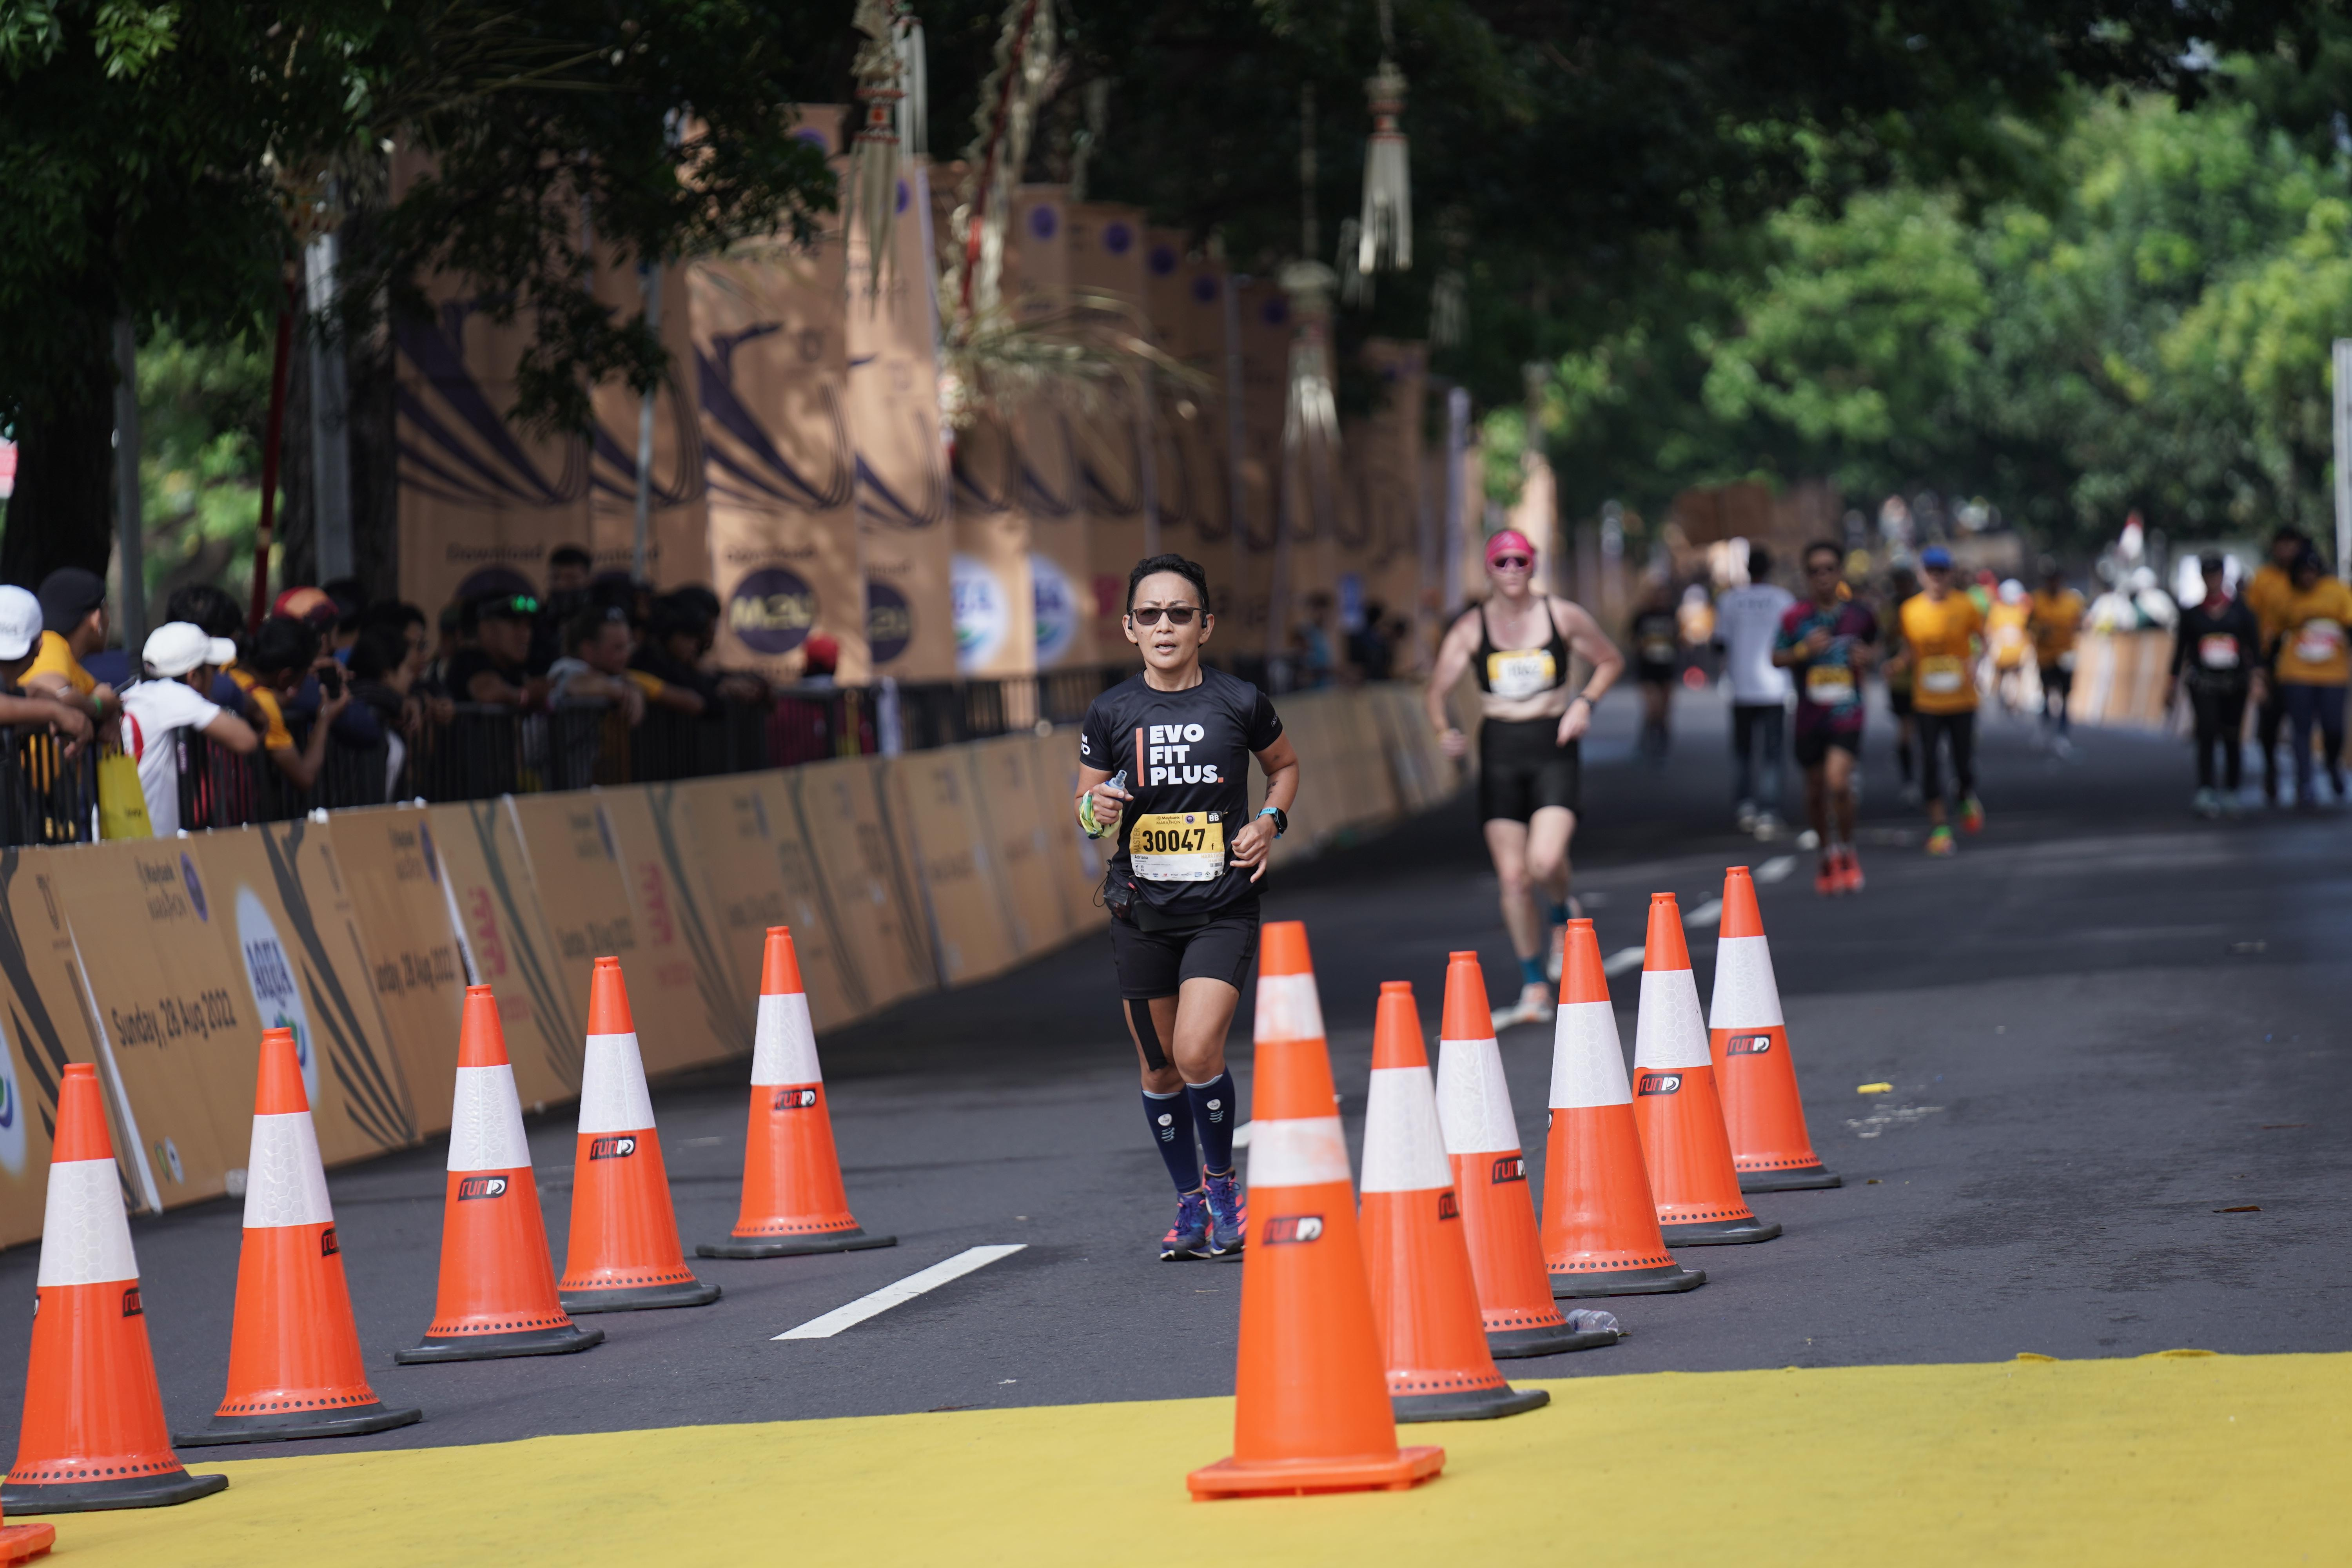bib: (1129, 812, 1225, 882), (1488, 651, 1554, 697), (1811, 667, 1857, 705), (1916, 656, 1964, 693), (2298, 630, 2334, 667), (2205, 634, 2238, 670)
